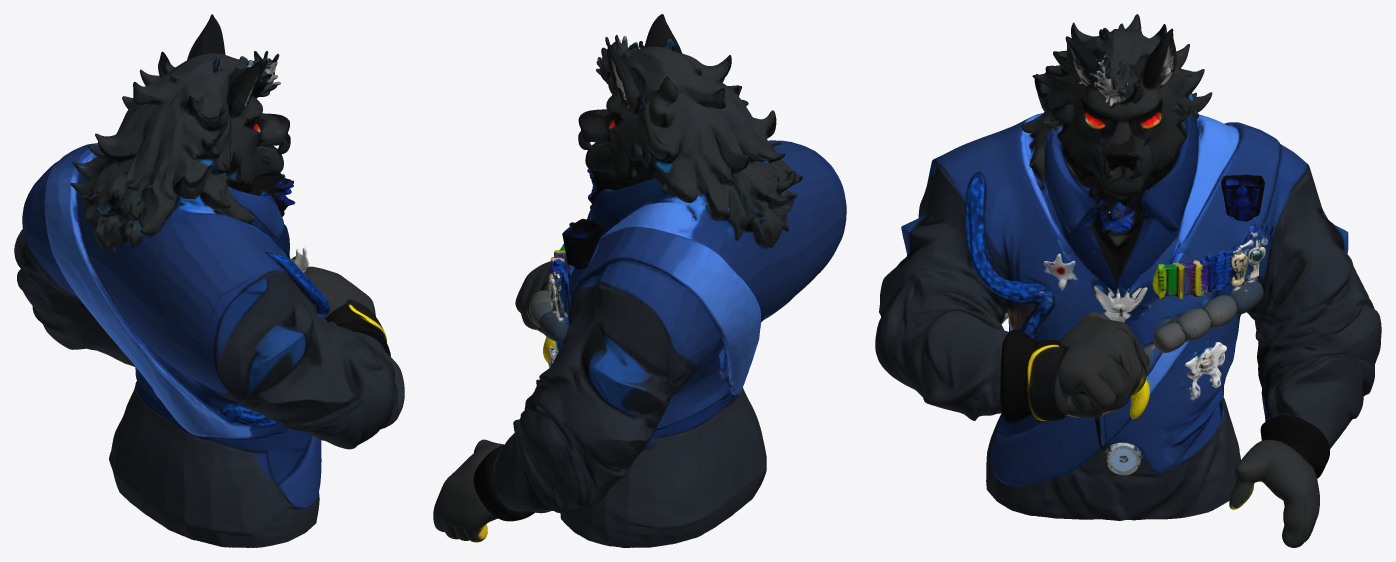
The model's file is tripo_convert_37fd9c60-c7f9-4f1f-9d41-63b3cacbf3dc.glb.
The picture shows the model from 3 angles, left to right: view 1: azimuth 30°, elevation 25°; view 2: azimuth 150°, elevation 25°; view 3: azimuth 270°, elevation 25°; orthographic projection. The views are drawn at different scales.
Parts seen in each view (by area): view 1: tripo_node_37fd9c60-c7f9-4f1f-9d41-63b3cacbf3dc; view 2: tripo_node_37fd9c60-c7f9-4f1f-9d41-63b3cacbf3dc; view 3: tripo_node_37fd9c60-c7f9-4f1f-9d41-63b3cacbf3dc.
Boxes of the visible parts, x1,y1,x2,y2 form: tripo_node_37fd9c60-c7f9-4f1f-9d41-63b3cacbf3dc: [14, 14, 404, 547]; tripo_node_37fd9c60-c7f9-4f1f-9d41-63b3cacbf3dc: [433, 14, 846, 547]; tripo_node_37fd9c60-c7f9-4f1f-9d41-63b3cacbf3dc: [875, 14, 1381, 547].
Size of the model in its own units: 0.6171 by 1 by 0.976.
Materials: 1 (1 with a texture image).
